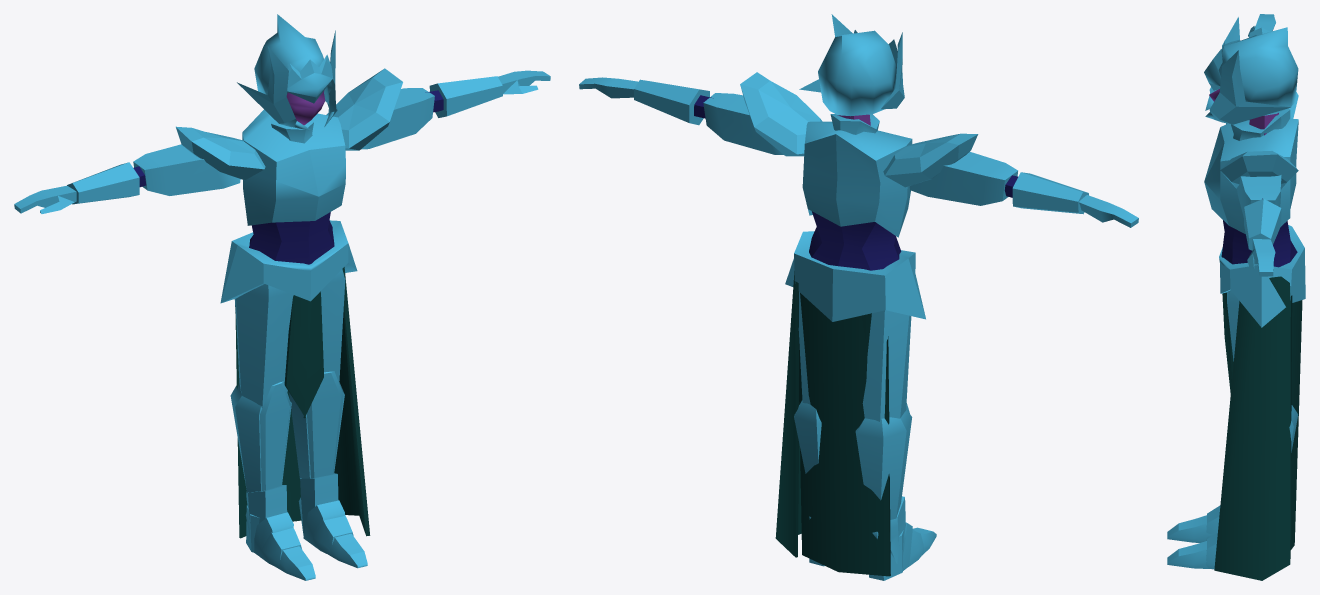
Rendered from knight00.fbx.
The picture shows the model from 3 angles, left to right: view 1: azimuth 30°, elevation 25°; view 2: azimuth 150°, elevation 25°; view 3: azimuth 270°, elevation 25°; orthographic projection. The views are drawn at different scales.
Parts seen in each view (by area): view 1: initialShadingGroup polySurface184 (×4); view 2: initialShadingGroup polySurface184 (×3); view 3: initialShadingGroup polySurface184 (×4).
Part boxes in pixels (<box>): initialShadingGroup polySurface184 (×4): <box>14,14,550,580</box>; initialShadingGroup polySurface184 (×3): <box>579,14,1138,580</box>; initialShadingGroup polySurface184 (×4): <box>1167,14,1305,580</box>.
Bounding box in the file's own units: 55.87 × 52.09 × 12.49.
